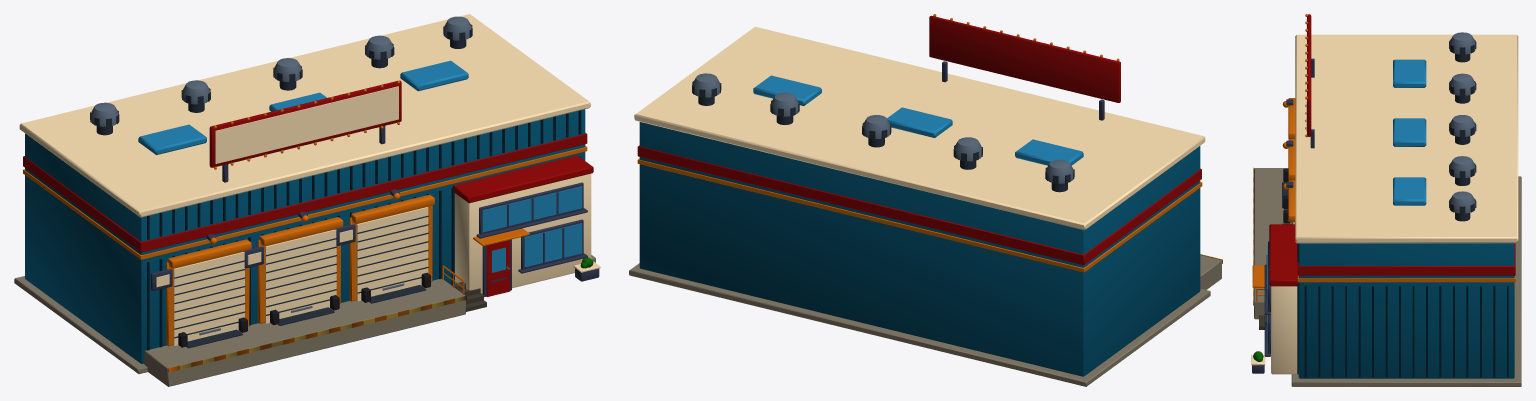
File: DepotBuilding.obj
3 renders of one model, left to right at view 1: azimuth 30°, elevation 25°; view 2: azimuth 150°, elevation 25°; view 3: azimuth 270°, elevation 25°, orthographic. The views are drawn at different scales.
Visible parts, largest first — view 1: DepotBuilding; view 2: DepotBuilding; view 3: DepotBuilding.
Boxes of the visible parts, x1=… form: DepotBuilding: x1=14, y1=14, x2=600, y2=386; DepotBuilding: x1=629, y1=14, x2=1222, y2=386; DepotBuilding: x1=1251, y1=14, x2=1521, y2=386.
Bounding box in the file's own units: 35 × 16.26 × 19.41.
